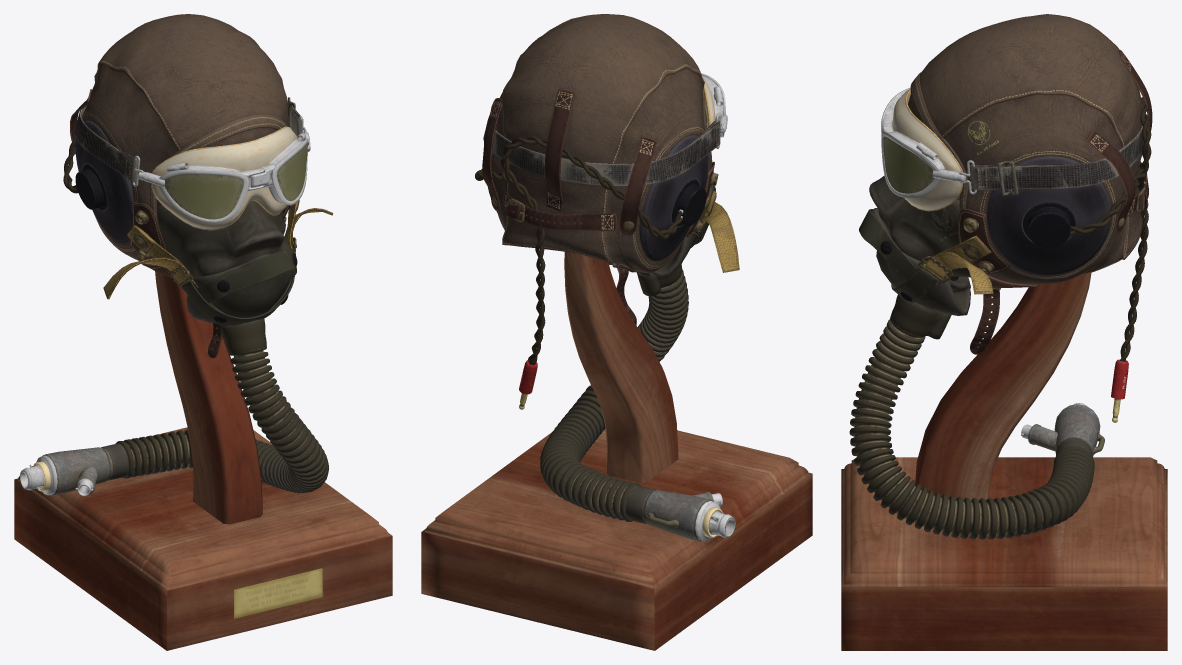
Rendered from FlightHelmet.glb.
3 renders of one model, left to right at view 1: azimuth 30°, elevation 25°; view 2: azimuth 150°, elevation 25°; view 3: azimuth 270°, elevation 25°, orthographic. The views are drawn at different scales.
Visible parts, largest first — view 1: RubberWood_low, LeatherParts_low, MetalParts_low, Hose_low, GlassPlastic_low, Lenses_low; view 2: RubberWood_low, LeatherParts_low, Hose_low, MetalParts_low, GlassPlastic_low; view 3: RubberWood_low, LeatherParts_low, Hose_low, GlassPlastic_low, MetalParts_low, Lenses_low.
Boxes of the visible parts, x1,y1,x2,y2 form: RubberWood_low: [14, 100, 392, 650]; LeatherParts_low: [70, 14, 290, 358]; MetalParts_low: [20, 97, 322, 618]; Hose_low: [115, 346, 328, 493]; GlassPlastic_low: [75, 120, 296, 244]; Lenses_low: [165, 143, 307, 219]; RubberWood_low: [421, 114, 812, 650]; LeatherParts_low: [482, 14, 714, 325]; Hose_low: [540, 270, 688, 521]; MetalParts_low: [492, 73, 735, 541]; GlassPlastic_low: [487, 76, 715, 261]; RubberWood_low: [841, 97, 1167, 650]; LeatherParts_low: [908, 14, 1152, 354]; Hose_low: [849, 317, 1094, 539]; GlassPlastic_low: [892, 88, 1110, 275]; MetalParts_low: [880, 87, 1146, 457]; Lenses_low: [883, 136, 933, 193].
Size of the model in its own units: 0.3666 by 0.716 by 0.3716.
6 materials, 6 textured.
